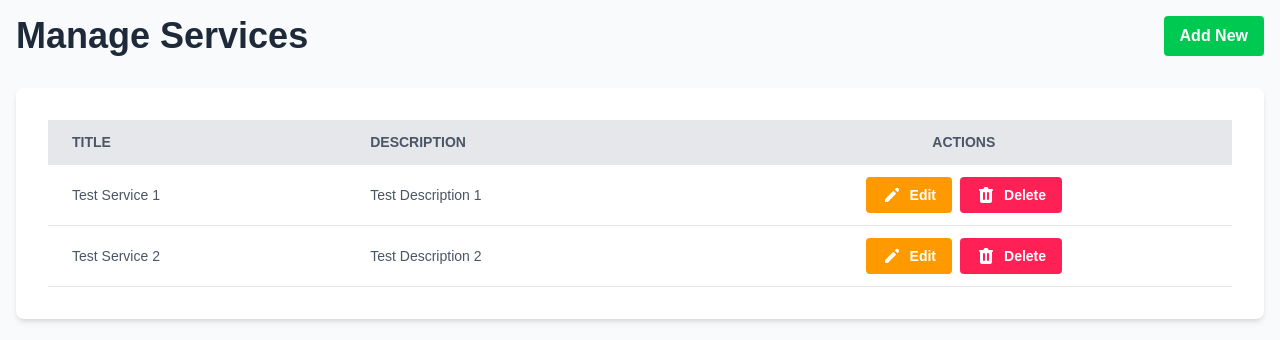
Test case: ServicesPage › deletes a service when delete is confirmed
This screenshot has width=1280, height=340.
Click the button "Delete" in the row of "Test Service 1".
click(1011, 195)  # box [960,177,1062,213]
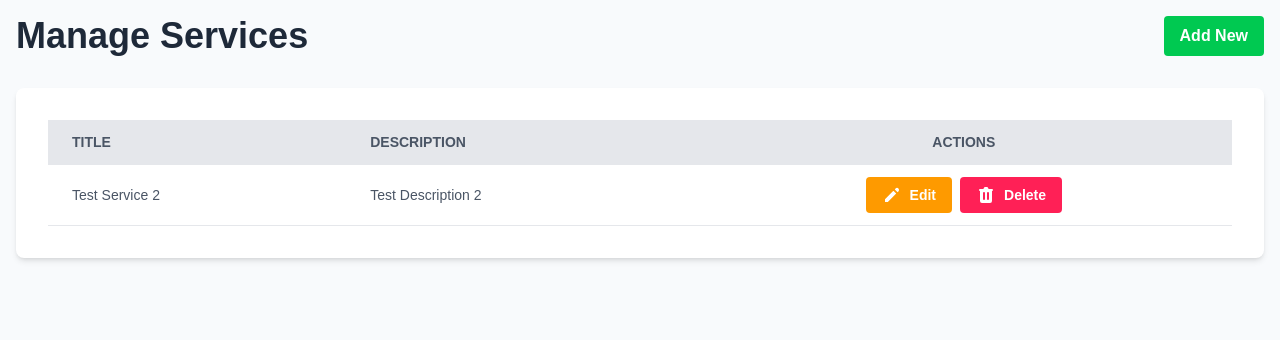
Expected: the text "Test Service 1" is gone
